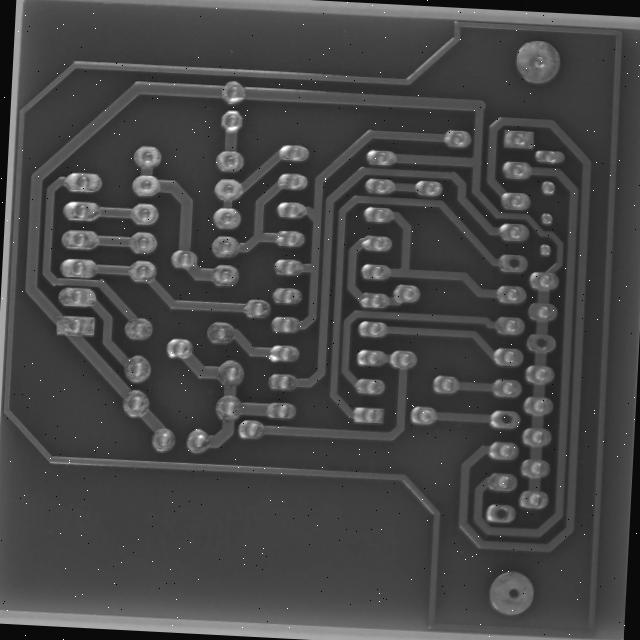missing_hole: (523, 434, 551, 460), (519, 536, 549, 560), (534, 268, 561, 294), (532, 616, 562, 639), (565, 355, 592, 378)
